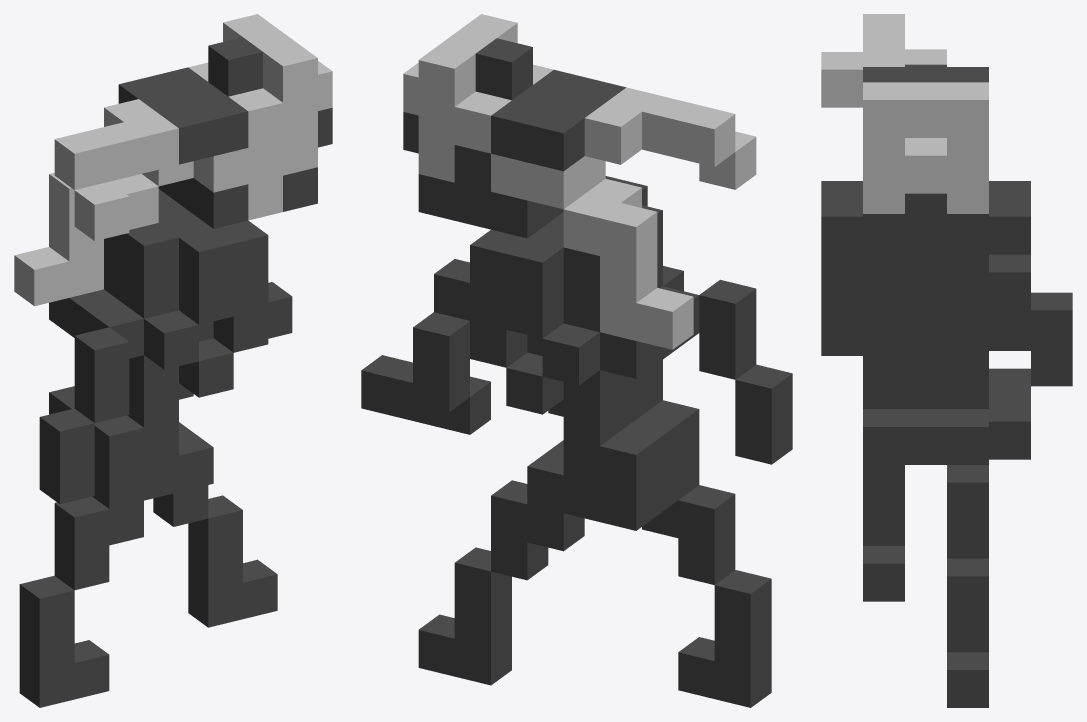
File: death_01.fbx
3 views of the same model, side by side, from view 1: azimuth 30°, elevation 25°; view 2: azimuth 150°, elevation 25°; view 3: azimuth 270°, elevation 25° (orthographic). The views are drawn at different scales.
Parts seen in each view (by area): view 1: Untitled, Untitled.001, Untitled.002; view 2: Untitled, Untitled.001, Untitled.002; view 3: Untitled, Untitled.001, Untitled.002.
Boxes of the visible parts, box(x1,y1,x2,y2) form: Untitled: box(19, 37, 332, 707); Untitled.001: box(14, 14, 317, 306); Untitled.002: box(248, 61, 332, 220); Untitled: box(361, 38, 792, 707); Untitled.001: box(418, 14, 756, 349); Untitled.002: box(403, 63, 454, 182); Untitled: box(821, 64, 1072, 707); Untitled.001: box(821, 14, 988, 137); Untitled.002: box(863, 138, 988, 213).
Bounding box in the file's own units: 90 × 160 × 60.
